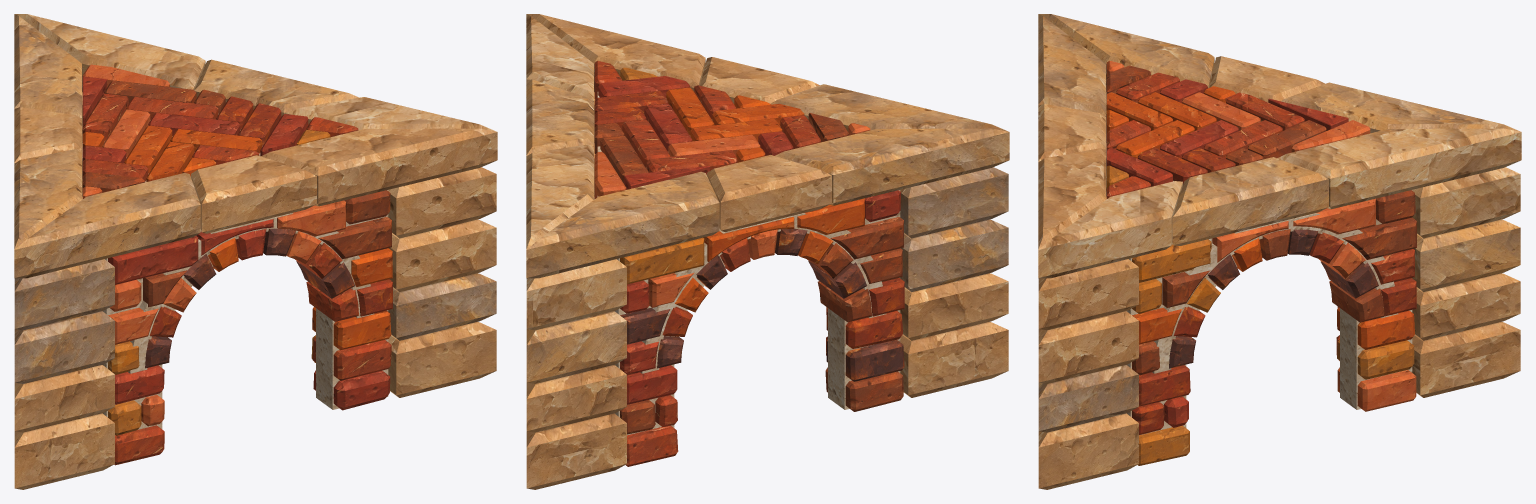
Rendered from foundation_triangle__clay_brick.glb.
The picture shows the model from 3 angles, left to right: view 1: azimuth 30°, elevation 25°; view 2: azimuth 150°, elevation 25°; view 3: azimuth 270°, elevation 25°; orthographic projection.
Visible parts, largest first — view 1: model; view 2: model; view 3: model.
Part boxes in pixels (box(x1,y1,x2,y2)): model: box(14, 14, 497, 489); model: box(526, 14, 1009, 489); model: box(1038, 14, 1521, 489).
Size of the model in its own units: 1.98 by 0.986 by 1.71.
Materials: 14 (14 with a texture image).
